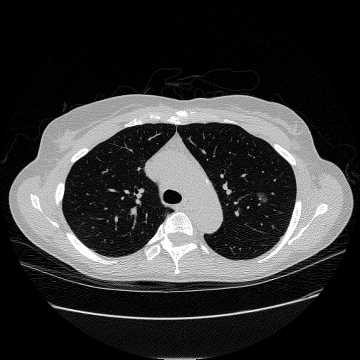nodule: (257, 192, 267, 202)
